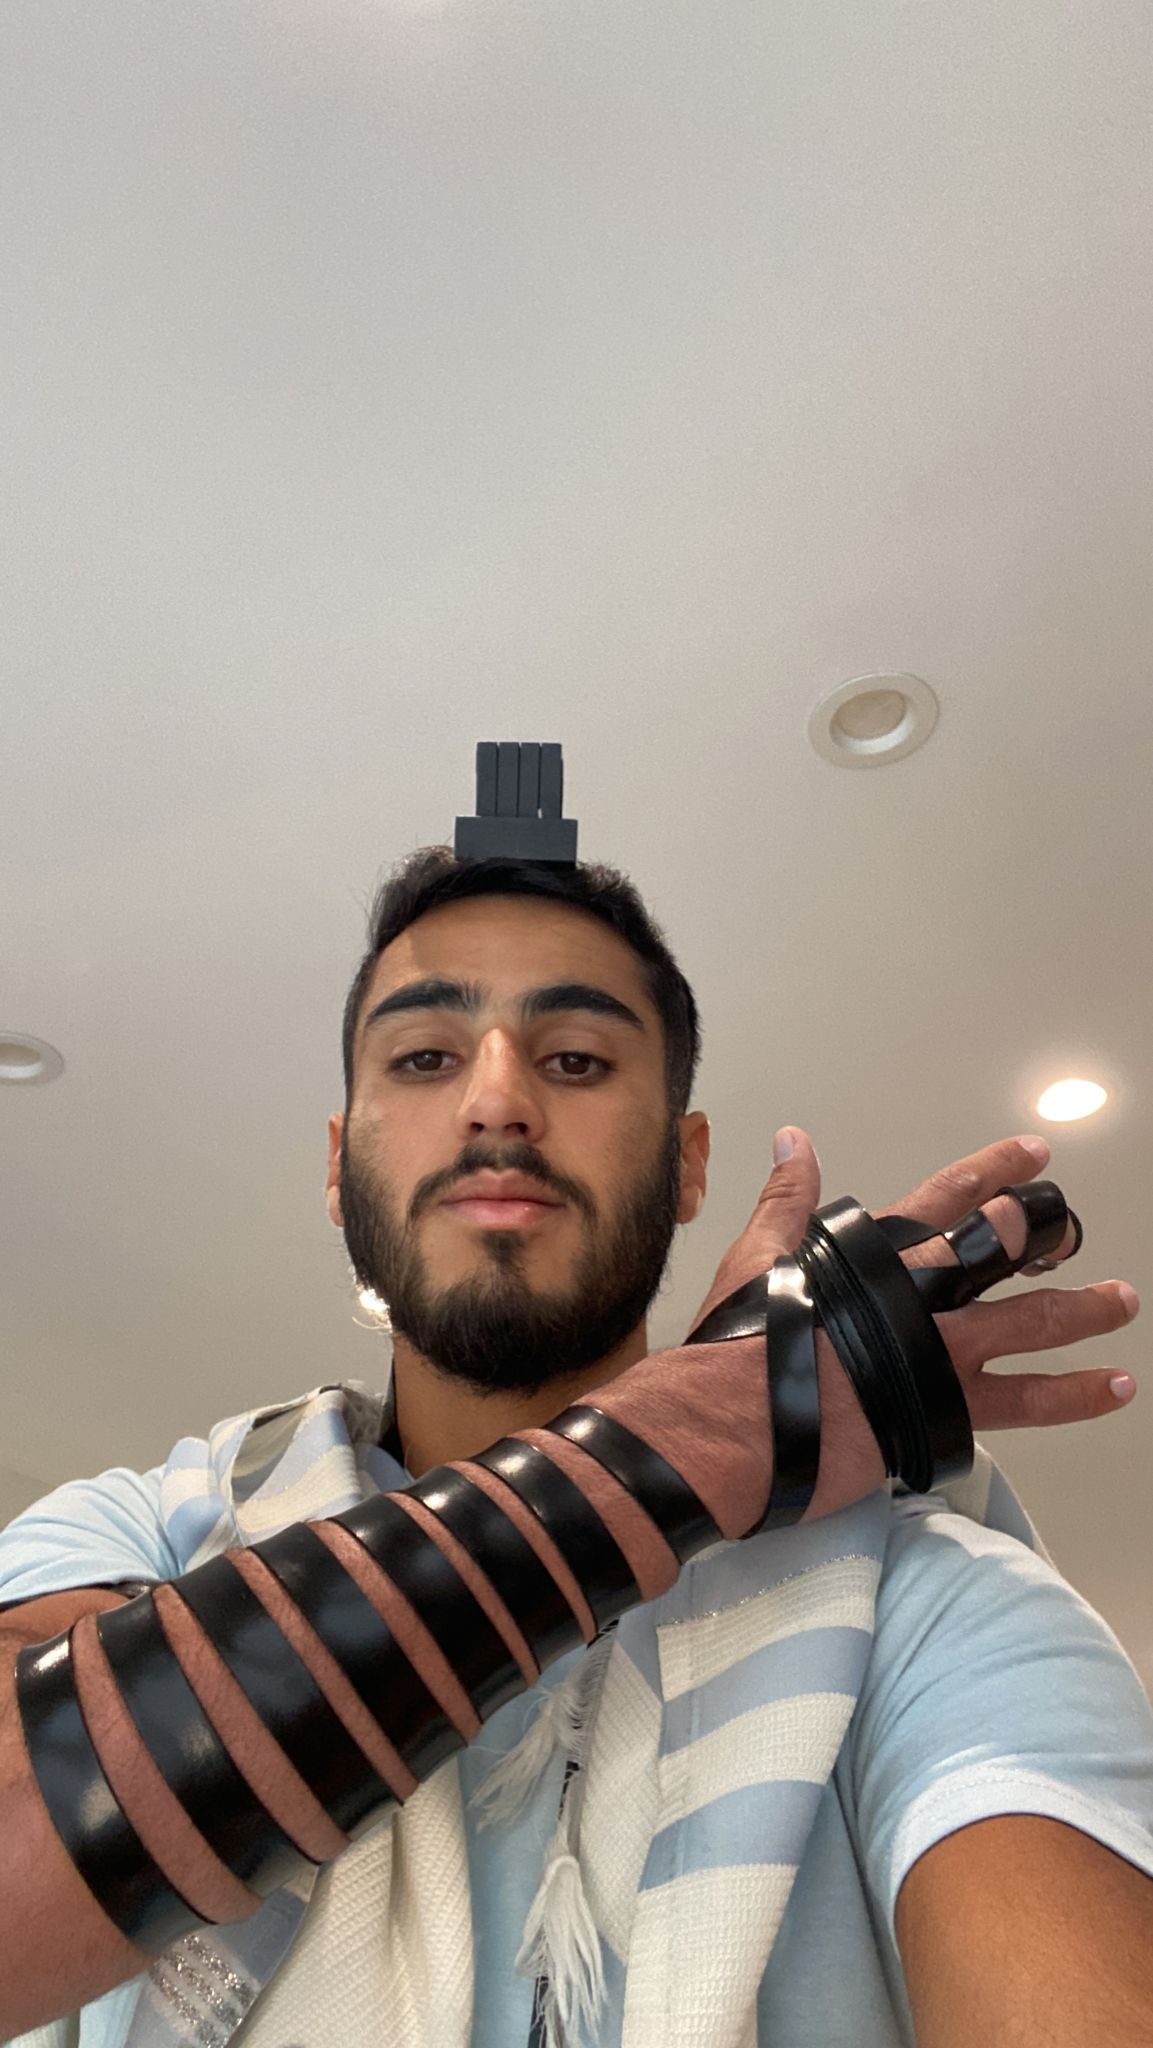tefillin: (450, 744, 579, 881)
